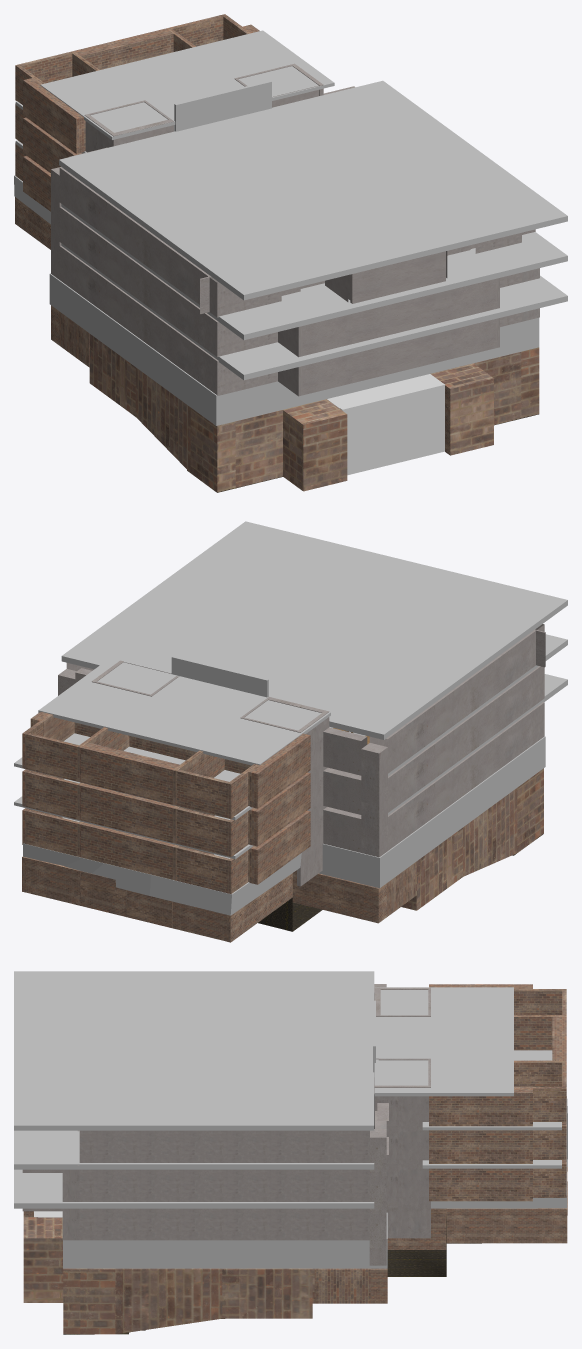
Rendered from Ahora si que si.fbx.
3 views of the same model, one above another, from view 1: azimuth 30°, elevation 25°; view 2: azimuth 150°, elevation 25°; view 3: azimuth 270°, elevation 25° (orthographic). The views are drawn at different scales.
Visible parts, largest first — view 1: Cube.151, Cube.040, Cube.152, Plane.006, Cube.105, Cube.039, Cube.099, Cube.094, Cube.005, Cube.112, Cube.069, Cube.047 (+15 smaller); view 2: Cube.151, Cube.152, Plane.006, Cube.036, Cube.040, Cube.110, Cube.112, Cube.094, Cube.005, Cube.063, Cube.053, Cube.109 (+21 smaller); view 3: Cube.151, Cube.040, Cube.152, Plane.006, Cube.059, Cube.118, Cube.058, Cube.110, Cube.105, Cube.036, Cube.049, Cube.099 (+16 smaller).
Boxes of the visible parts, x1=… form: Cube.151: x1=59, y1=80, x2=567, y2=300; Cube.040: x1=88, y1=333, x2=539, y2=492; Cube.152: x1=40, y1=30, x2=334, y2=139; Plane.006: x1=14, y1=175, x2=539, y2=425; Cube.105: x1=61, y1=204, x2=567, y2=340; Cube.039: x1=327, y1=374, x2=444, y2=475; Cube.099: x1=61, y1=243, x2=567, y2=380; Cube.094: x1=59, y1=206, x2=209, y2=350; Cube.005: x1=59, y1=245, x2=209, y2=388; Cube.112: x1=59, y1=167, x2=209, y2=304; Cube.069: x1=209, y1=268, x2=539, y2=357; Cube.047: x1=209, y1=308, x2=539, y2=396; Cube.151: x1=61, y1=521, x2=567, y2=739; Cube.152: x1=38, y1=658, x2=330, y2=765; Plane.006: x1=23, y1=736, x2=545, y2=915; Cube.036: x1=22, y1=856, x2=292, y2=942; Cube.040: x1=401, y1=768, x2=543, y2=910; Cube.110: x1=22, y1=714, x2=257, y2=818; Cube.112: x1=369, y1=630, x2=535, y2=773; Cube.094: x1=388, y1=669, x2=535, y2=812; Cube.005: x1=388, y1=708, x2=535, y2=850; Cube.063: x1=22, y1=769, x2=248, y2=856; Cube.053: x1=22, y1=808, x2=248, y2=893; Cube.109: x1=81, y1=742, x2=179, y2=804; Cube.151: x1=14, y1=971, x2=374, y2=1130; Cube.040: x1=23, y1=1211, x2=314, y2=1334; Cube.152: x1=374, y1=987, x2=513, y2=1096; Plane.006: x1=63, y1=1096, x2=567, y2=1268; Cube.059: x1=79, y1=1169, x2=369, y2=1201; Cube.118: x1=79, y1=1130, x2=369, y2=1162; Cube.058: x1=79, y1=1208, x2=369, y2=1240; Cube.110: x1=514, y1=989, x2=566, y2=1122; Cube.105: x1=14, y1=1130, x2=374, y2=1169; Cube.036: x1=446, y1=1167, x2=567, y2=1243; Cube.049: x1=369, y1=1164, x2=430, y2=1265; Cube.099: x1=14, y1=1169, x2=374, y2=1208.
Size of the model in its own units: 2213 by 1533 by 3254.
